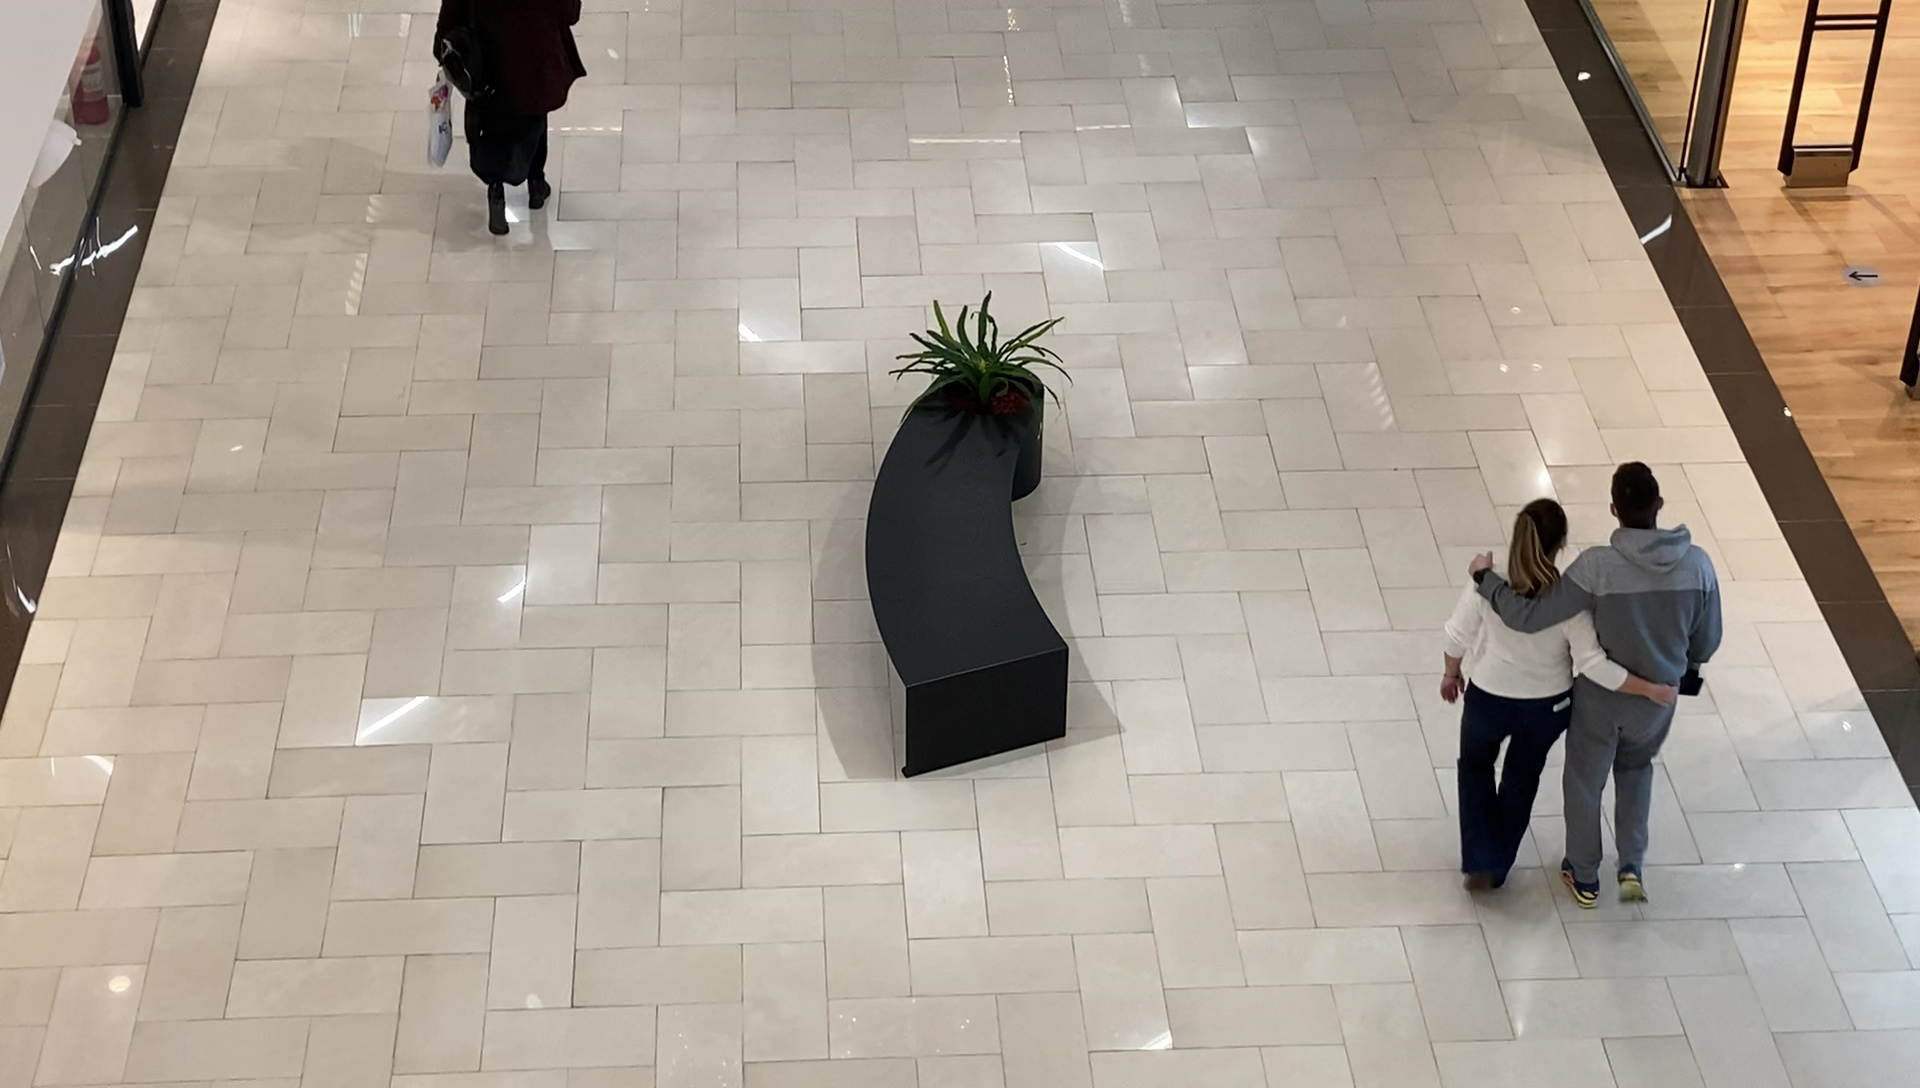person: (1568, 461, 1723, 904), (1442, 499, 1576, 890), (438, 1, 586, 236)
